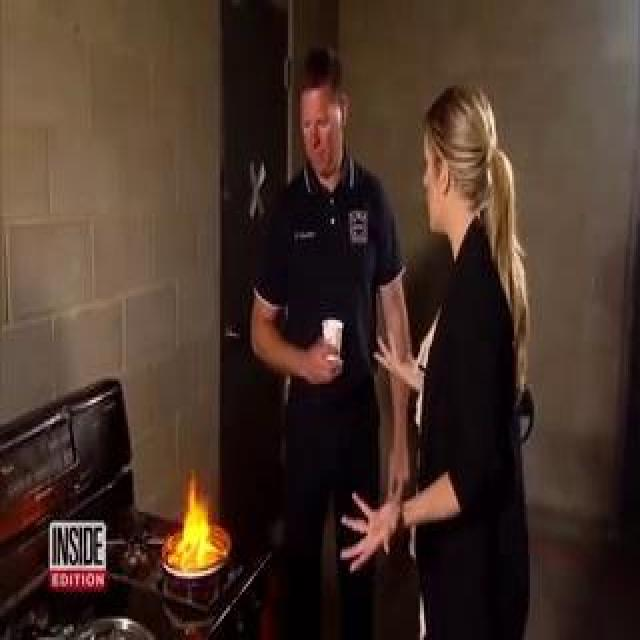Fire: (64, 114, 181, 544)
